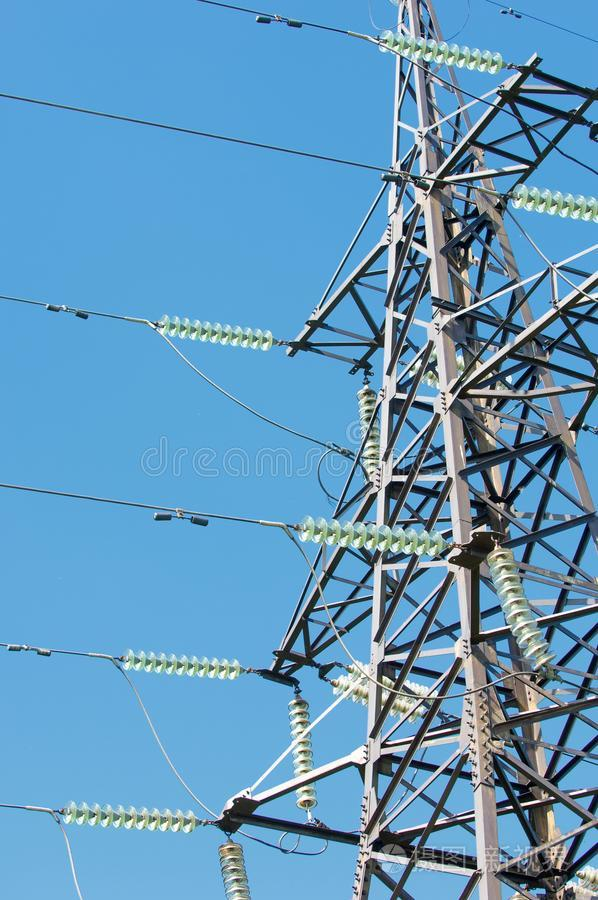insulator: (484, 546, 554, 669), (329, 663, 444, 720), (292, 518, 447, 557), (372, 32, 503, 77), (153, 310, 274, 351), (59, 801, 194, 834), (119, 648, 239, 682), (285, 694, 318, 805), (509, 185, 596, 224), (350, 388, 378, 473), (215, 839, 253, 900)
